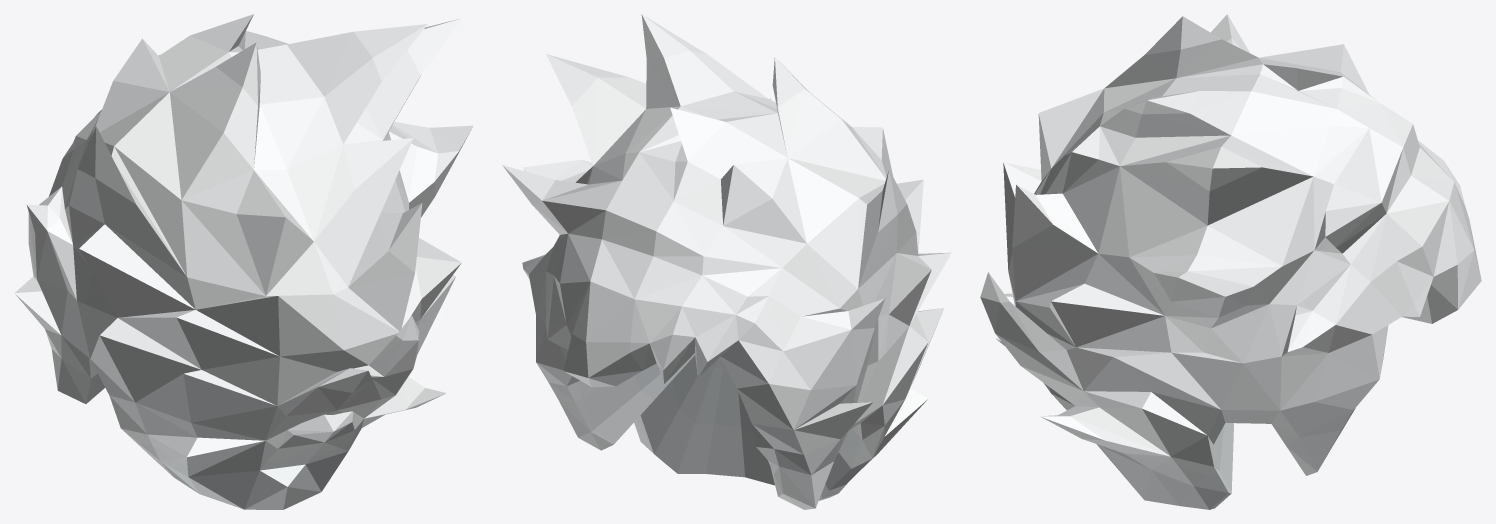
Rendered from CharSkyKid_Hair_AP11Prince_01.glb.
3 renders of one model, left to right at view 1: azimuth 30°, elevation 25°; view 2: azimuth 150°, elevation 25°; view 3: azimuth 270°, elevation 25°, orthographic. The views are drawn at different scales.
Visible parts, largest first — view 1: CharSkyKid_Hair_AP11Prince_01; view 2: CharSkyKid_Hair_AP11Prince_01; view 3: CharSkyKid_Hair_AP11Prince_01.
Boxes of the visible parts, <box> form: CharSkyKid_Hair_AP11Prince_01: <box>14,14,473,509</box>; CharSkyKid_Hair_AP11Prince_01: <box>502,14,951,509</box>; CharSkyKid_Hair_AP11Prince_01: <box>980,14,1481,509</box>.
Size of the model in its own units: 3.44 by 3.64 by 3.54.
1 material, 1 textured.
